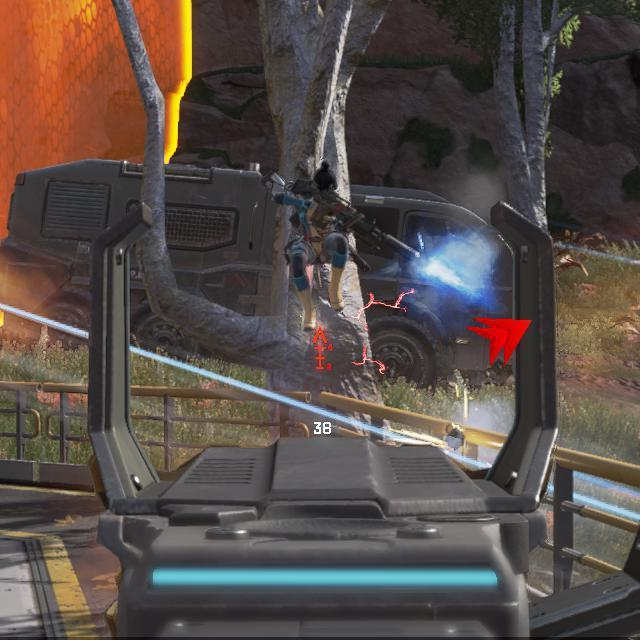avatar: (272, 158, 352, 330)
